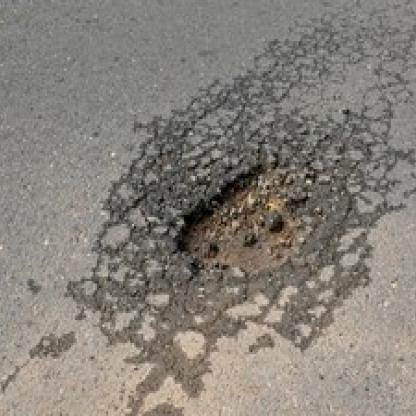pothole: (171, 160, 312, 277)
